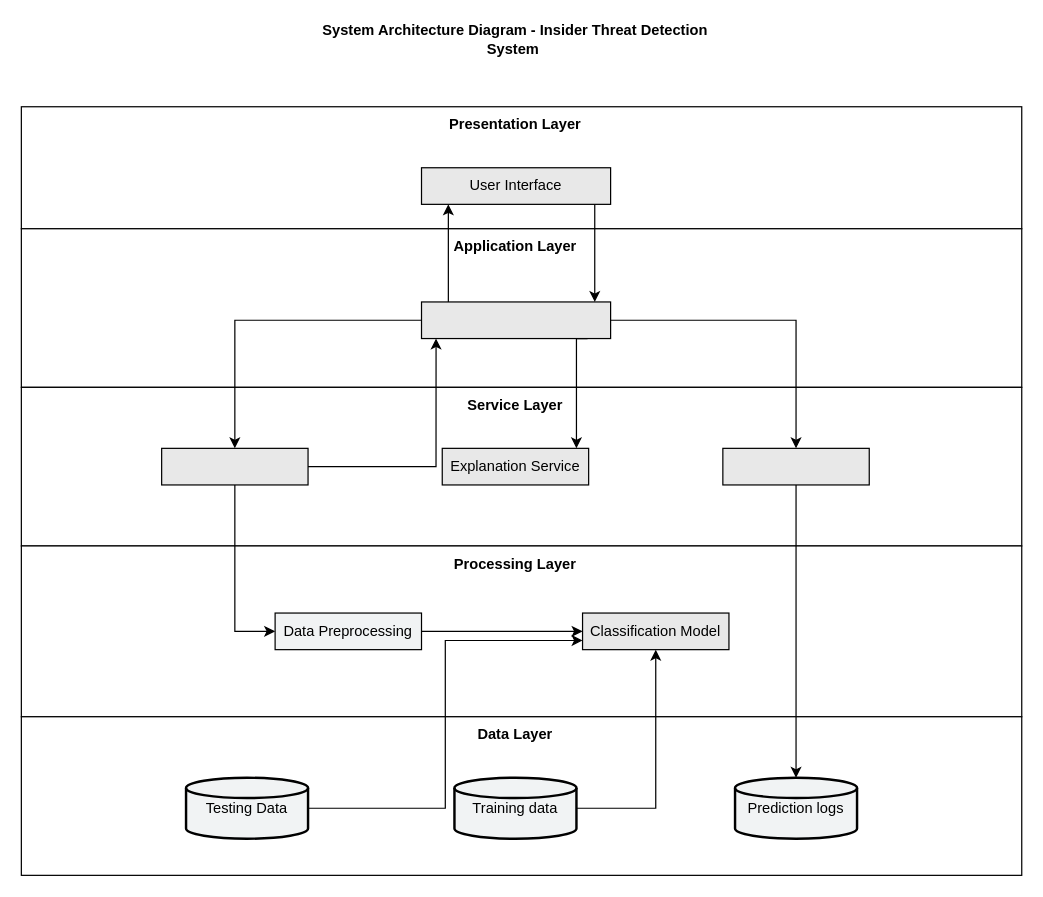
The diagram is 1043 pixels wide and 897 high, and some of its shapes have lost their labels. Each missing label, with the centre of its shape:
Logging Service: [795,466]
Prediction Controller: [515,320]
Prediction Service: [234,466]
